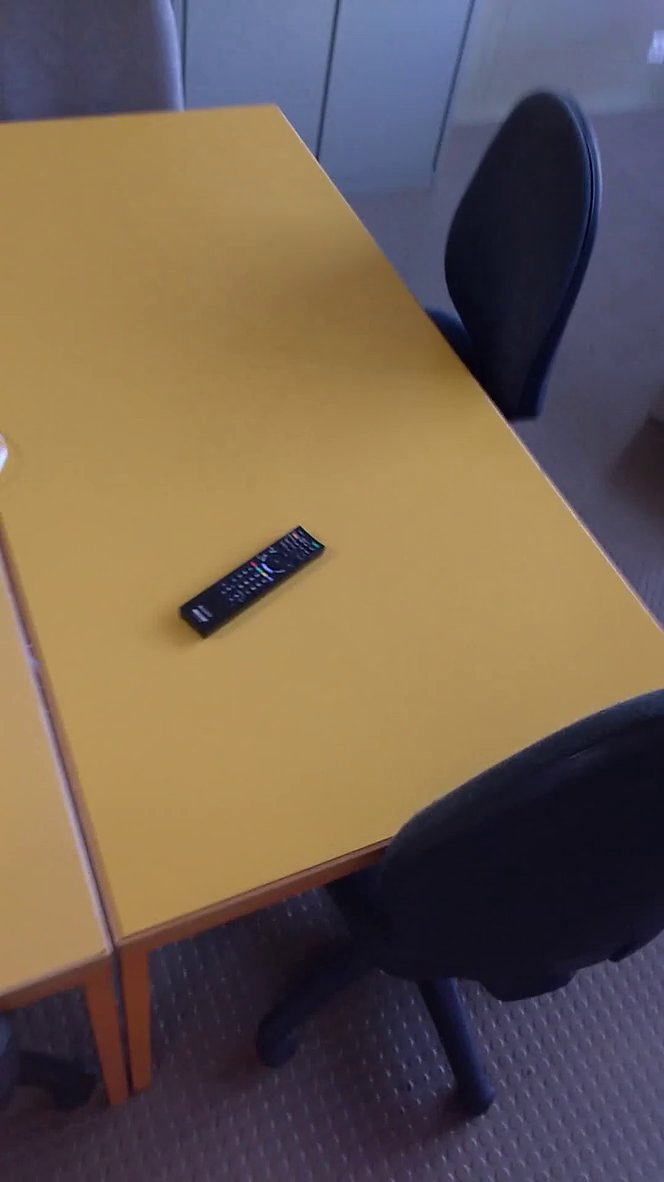chair: (407, 73, 608, 459)
remote: (171, 523, 347, 641)
